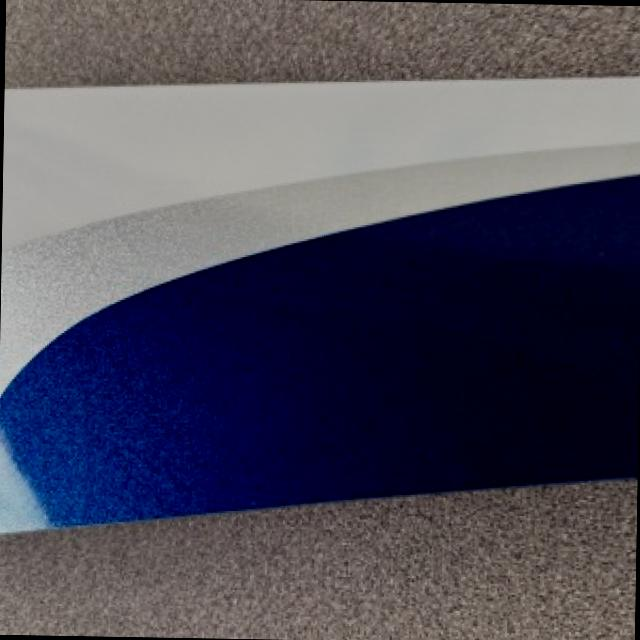healthy: (96, 325, 548, 504), (0, 327, 102, 530)
